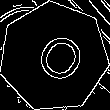O_SW: (22, 24, 86, 90)
